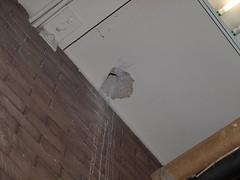Exposed reinforcement: (105, 72, 118, 78)
Spalling: (100, 67, 136, 100)
